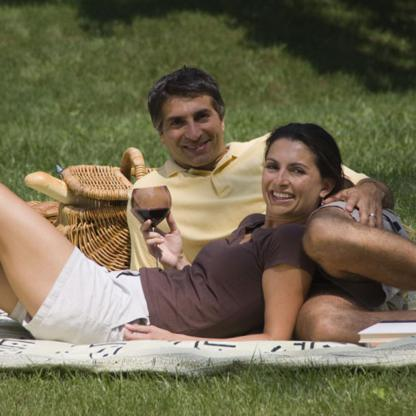face: (163, 90, 226, 167), (263, 137, 318, 217)
